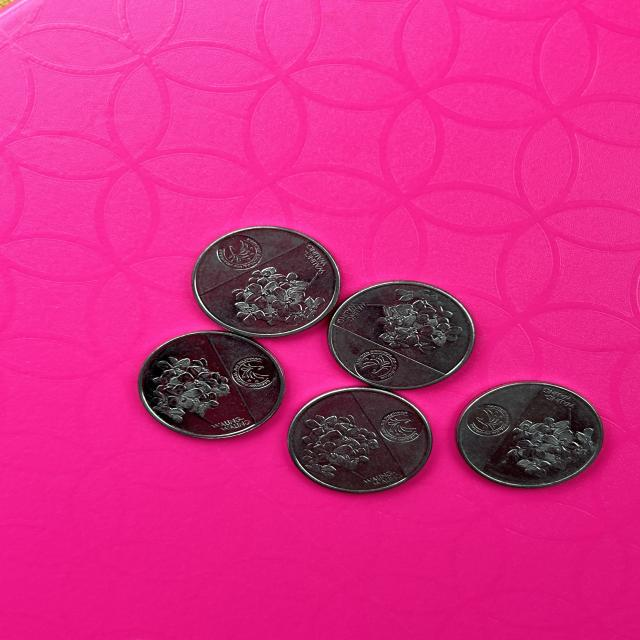1_New_Back: (358, 280, 450, 360), (220, 260, 325, 324), (141, 346, 233, 418), (506, 408, 604, 471), (297, 407, 381, 480)
